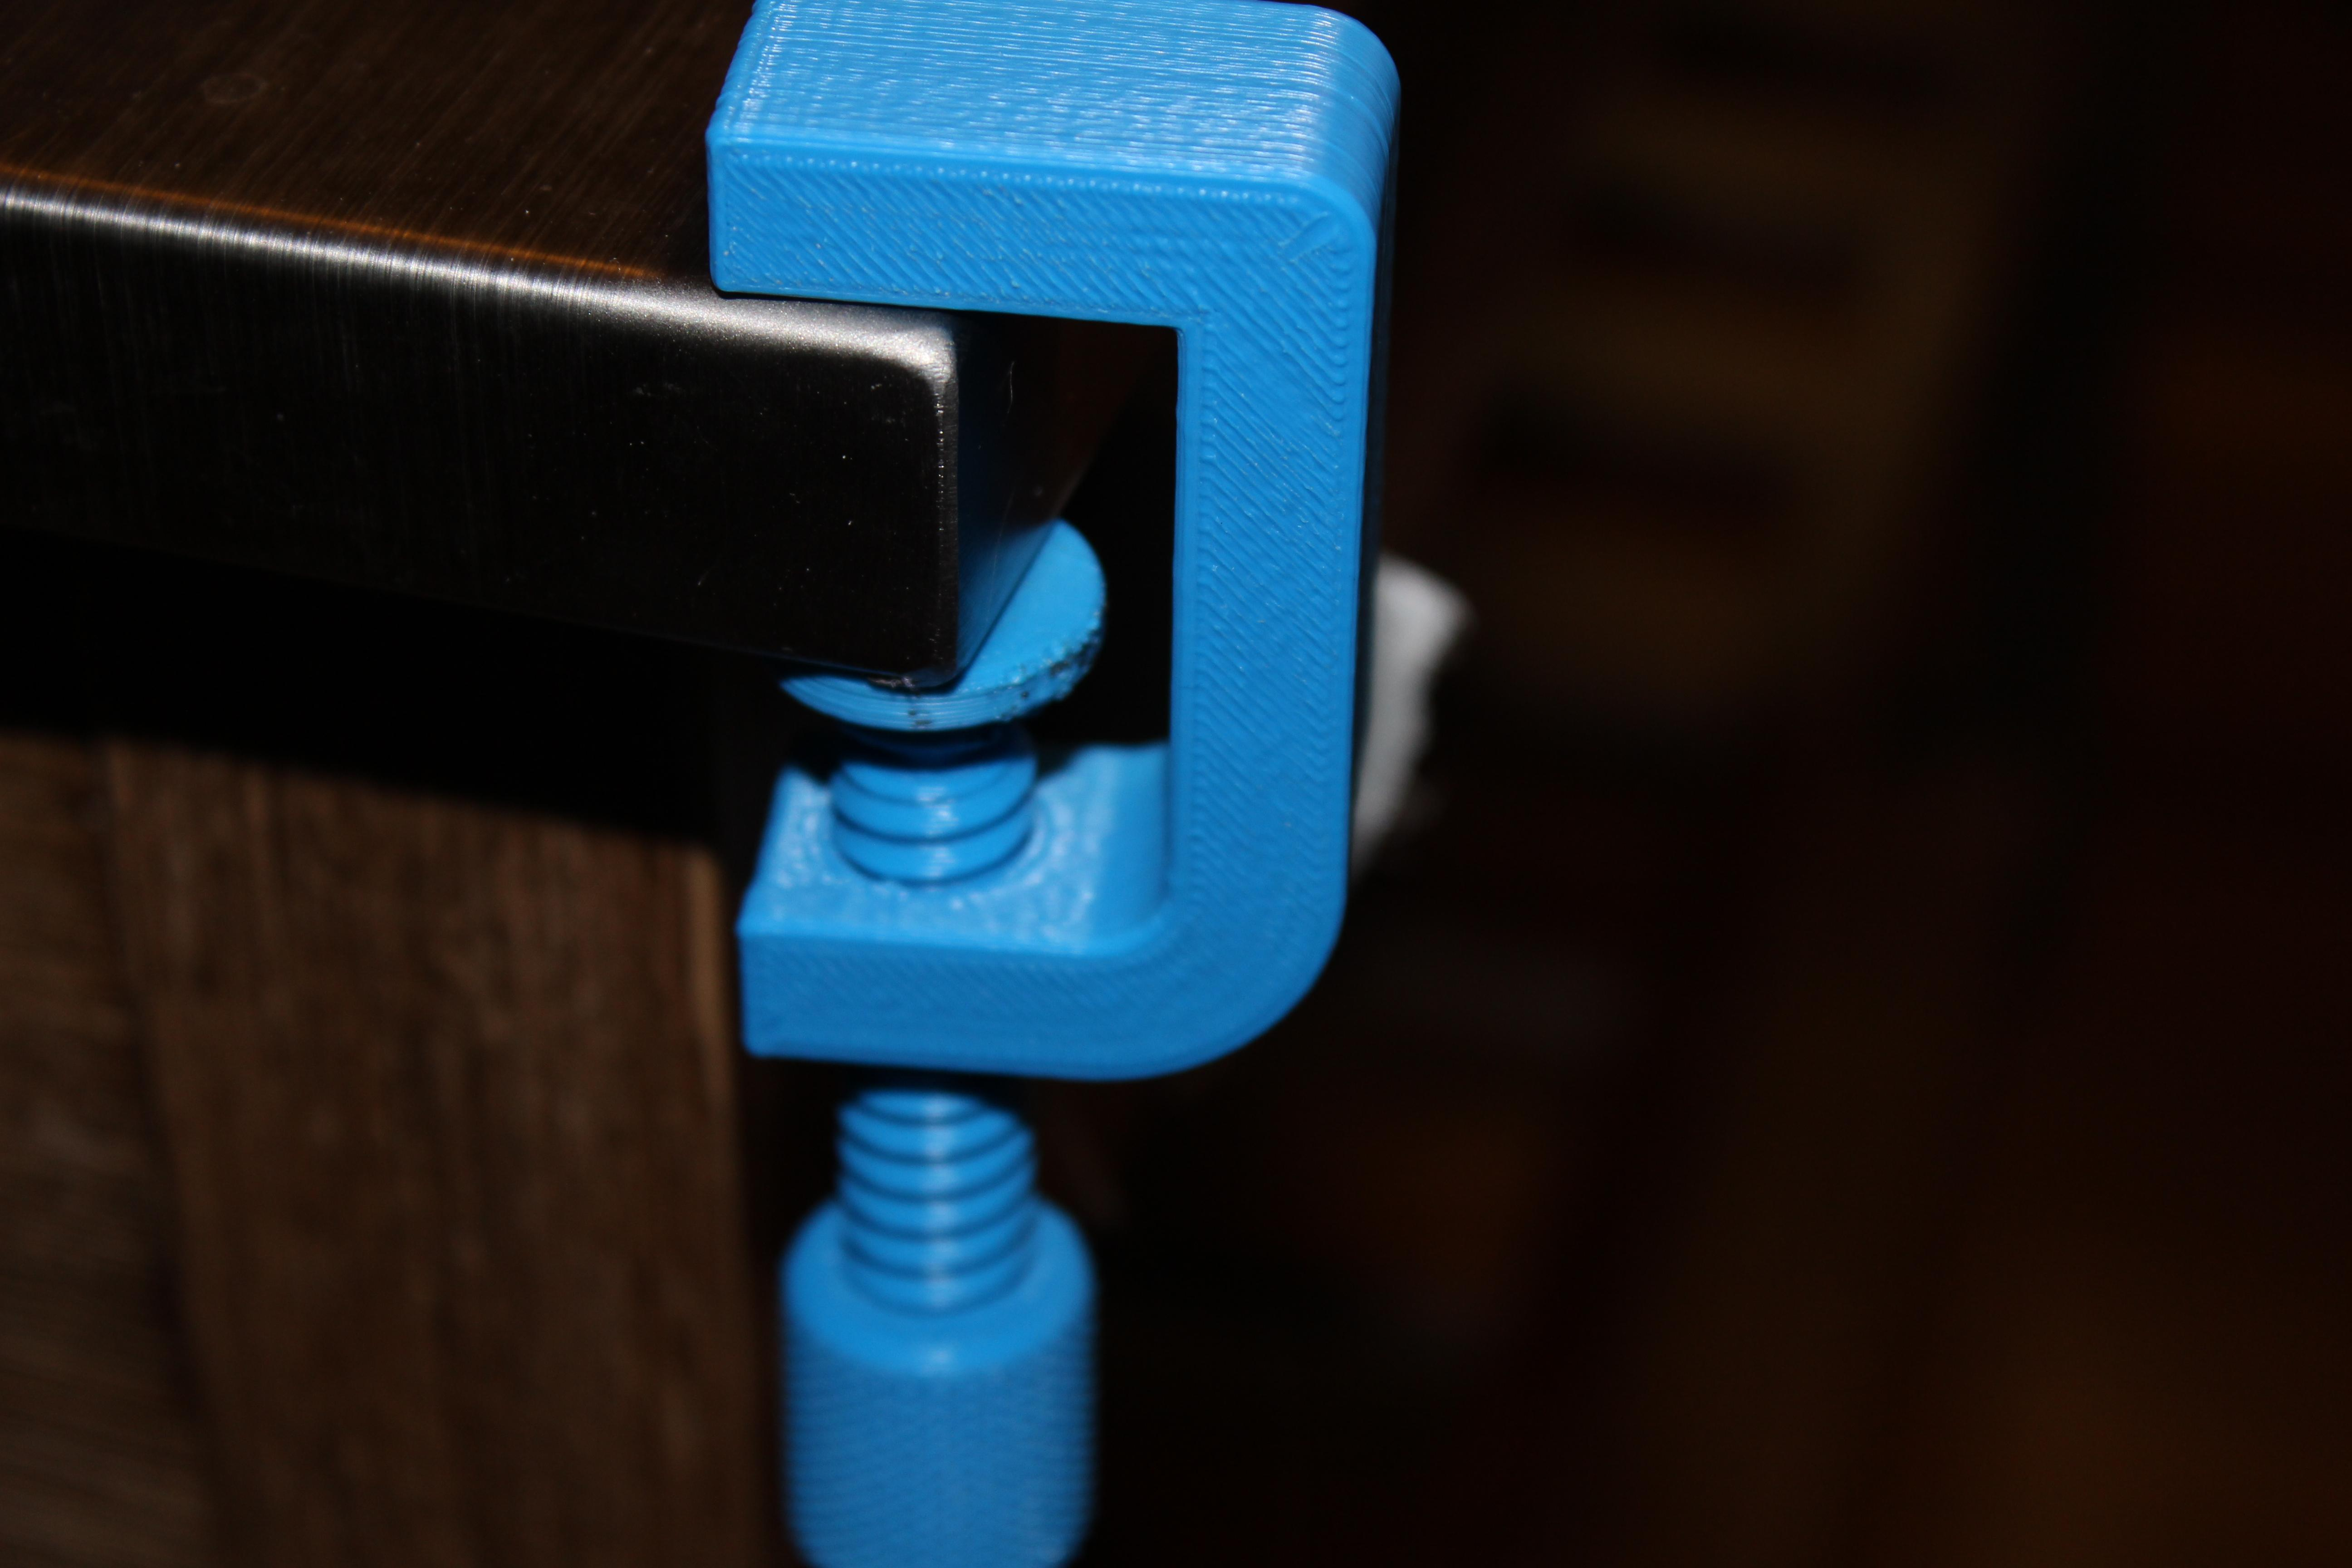gClamp: (626, 2, 1460, 1568)
